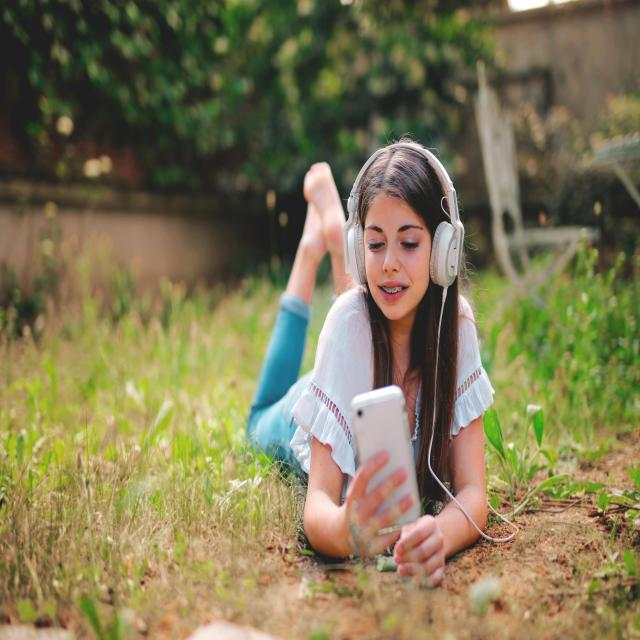lie: (258, 135, 511, 569)
